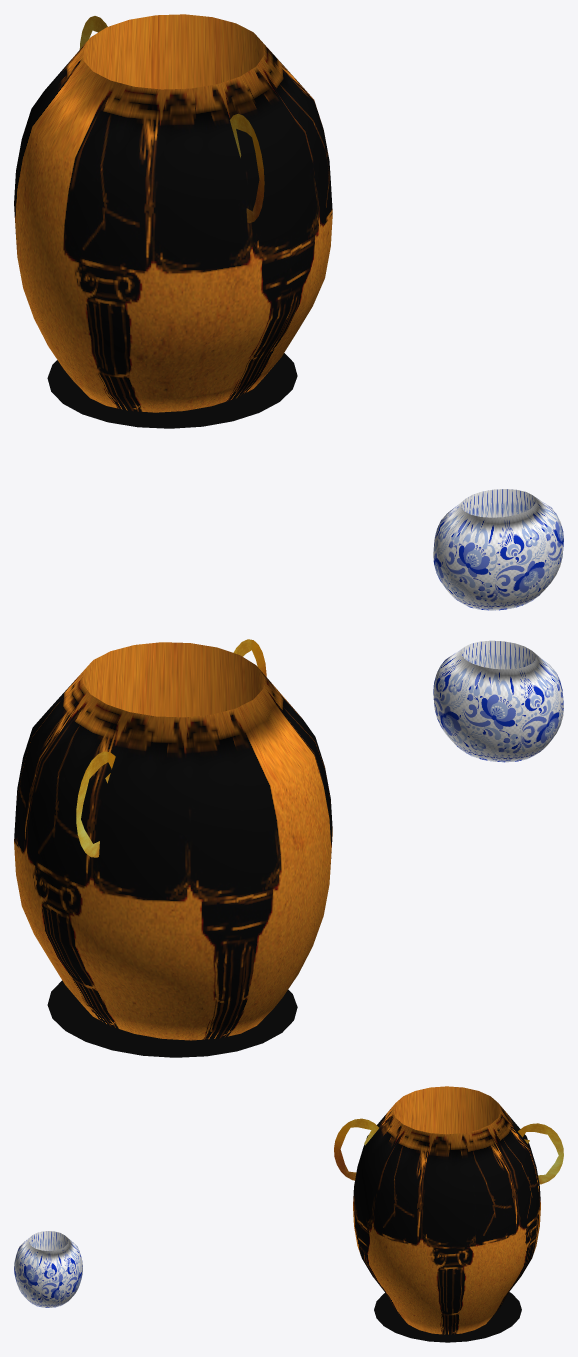
File: potjes.fbx
The picture shows the model from 3 angles, top to bottom: view 1: azimuth 30°, elevation 25°; view 2: azimuth 150°, elevation 25°; view 3: azimuth 270°, elevation 25°; orthographic projection. The views are drawn at different scales.
Parts seen in each view (by area): view 1: pDisc4, pSphere5; view 2: pDisc4, pSphere5; view 3: pDisc4, pSphere5.
Part boxes in pixels (bbox=[...]): pDisc4: bbox=[14, 14, 332, 428]; pSphere5: bbox=[433, 489, 563, 610]; pDisc4: bbox=[14, 639, 332, 1057]; pSphere5: bbox=[433, 640, 563, 762]; pDisc4: bbox=[334, 1086, 563, 1342]; pSphere5: bbox=[14, 1231, 82, 1307].
Bounding box in the file's own units: 0.5239 × 0.5887 × 1.44.
Materials: 5 (4 with a texture image).
